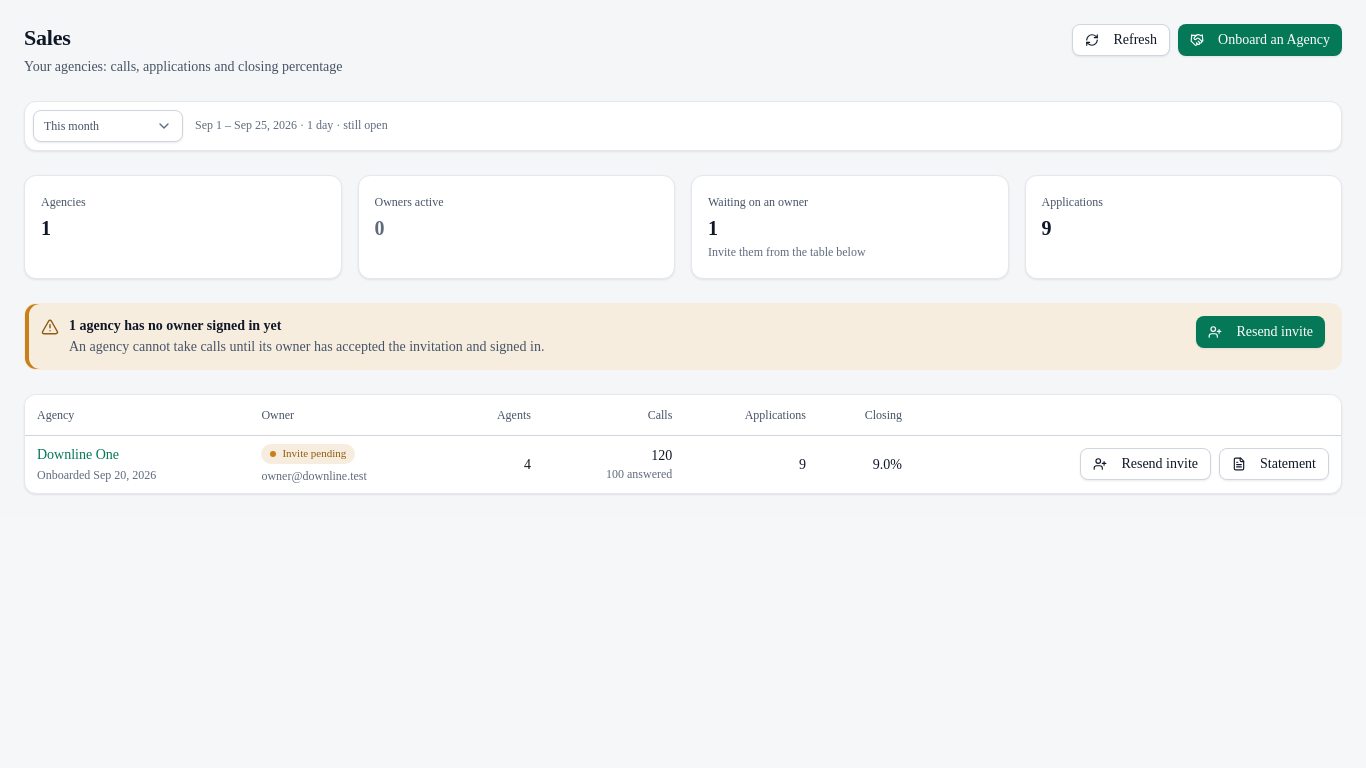
Test: white-label screens › /network/agencies › shows the link to hand over when the invitation could not be emailed
Expected: the link "Downline One" is shown, [37,444,119,465]
What coordinates should you click on to do the following:
click the button "Resend invite" in the row of "Downline One"
I would click on:
 (1146, 464)
Its box is [1080,448,1211,480].
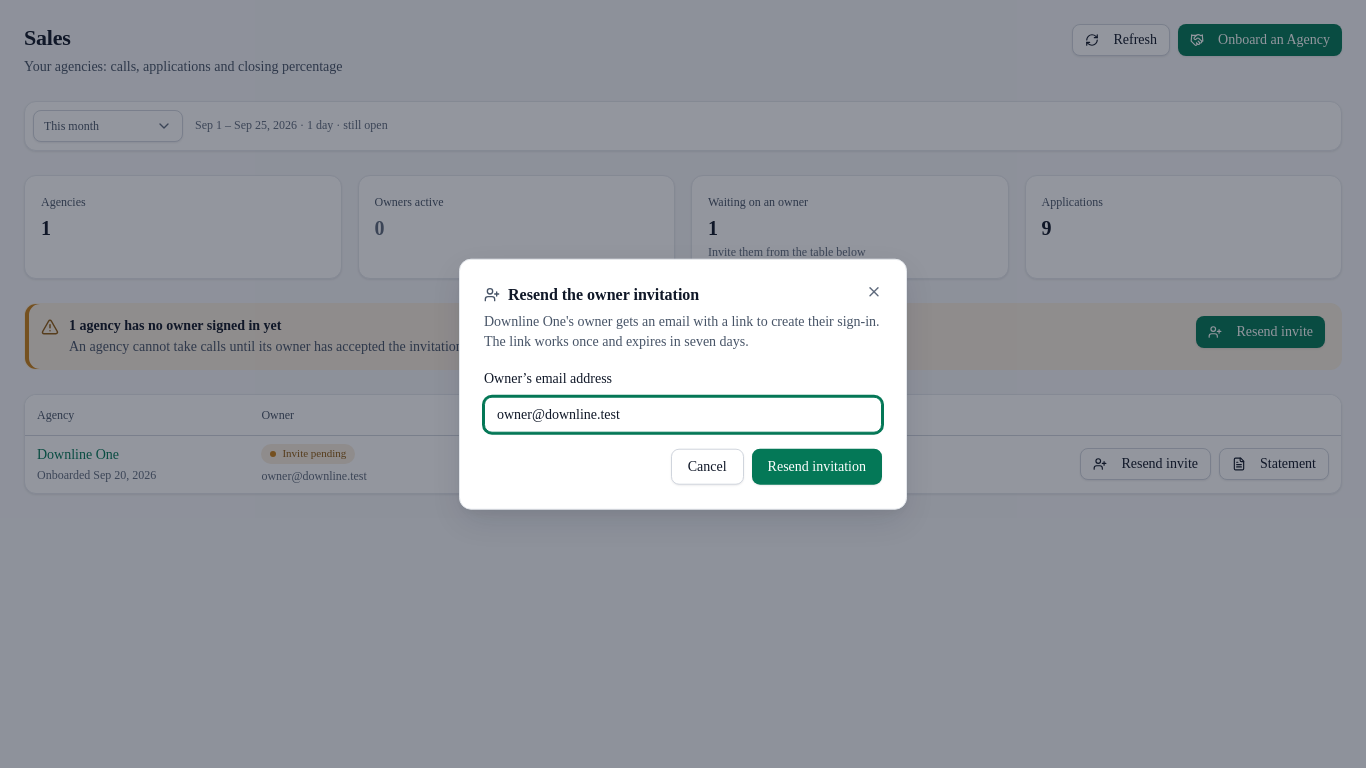
What coordinates should you click on to do the following:
click the button "Resend invitation"
I would click on:
 (817, 466)
Its box is [752,448,882,484].
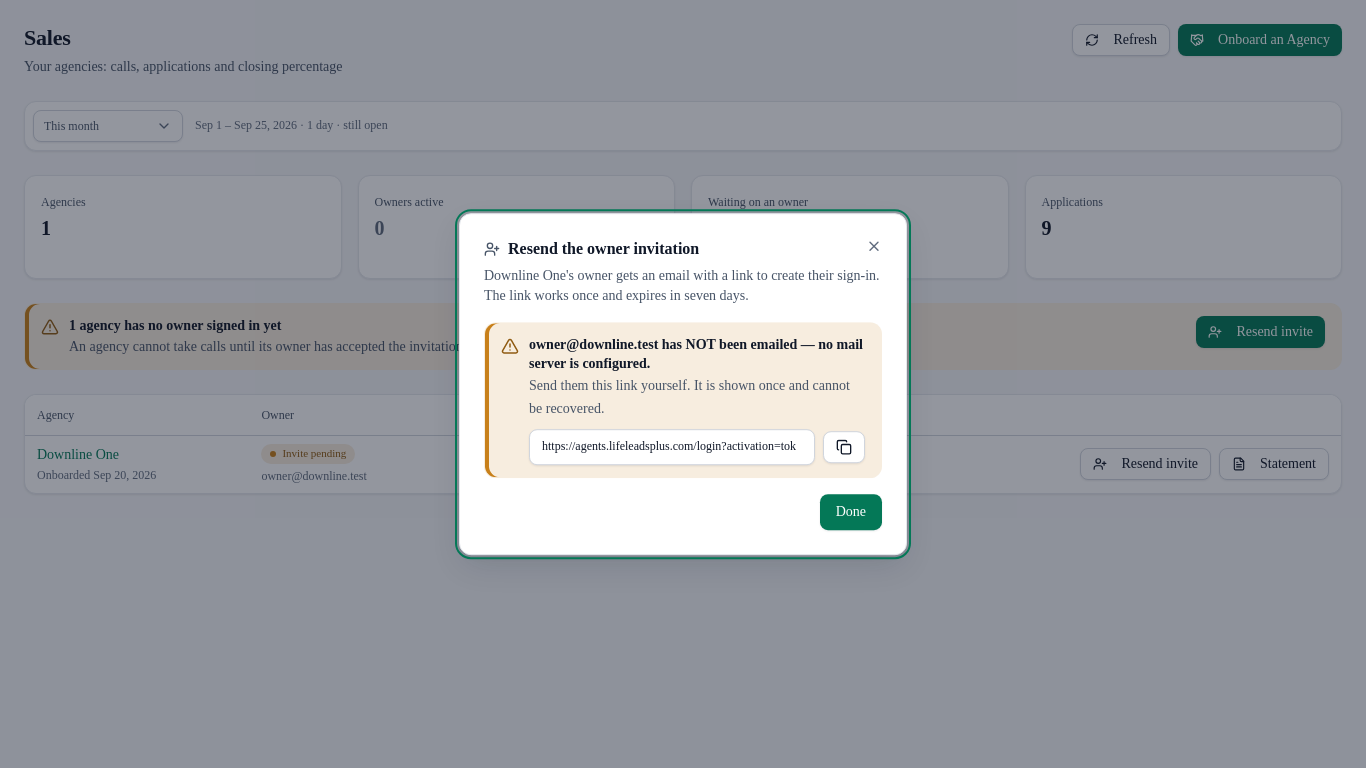
Result: the heading "owner@downline.test has NOT been emailed" is shown at [529,337,863,371]
Result: the field named "Activation link" holds "https://agents.lifeleadsplus.com/login?activation=tok" at [529,429,815,465]
